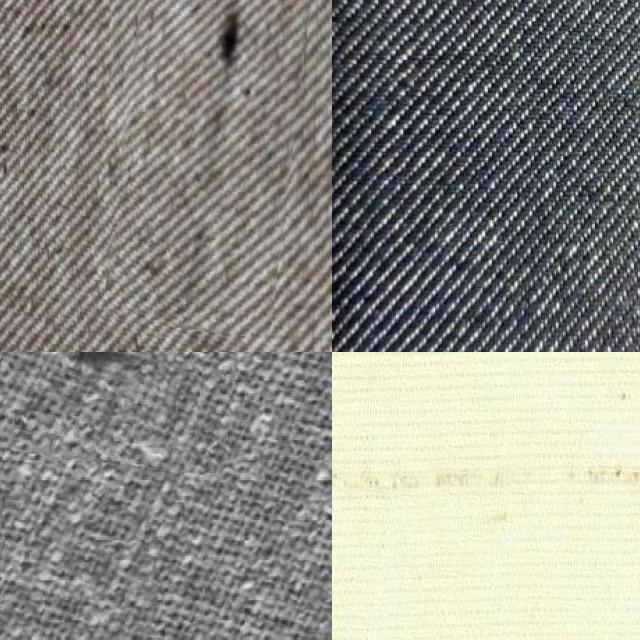other: (0, 352, 243, 470)
stains: (332, 352, 640, 640), (111, 0, 303, 334)
